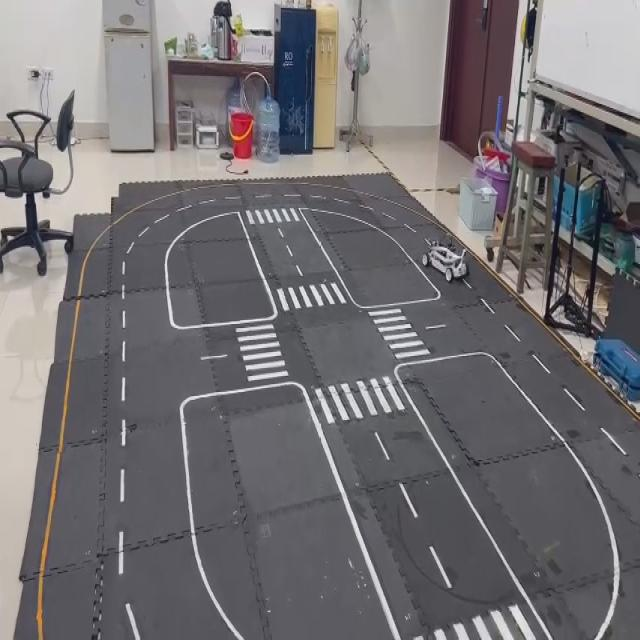SiCo-CAR: (421, 236, 469, 283)
